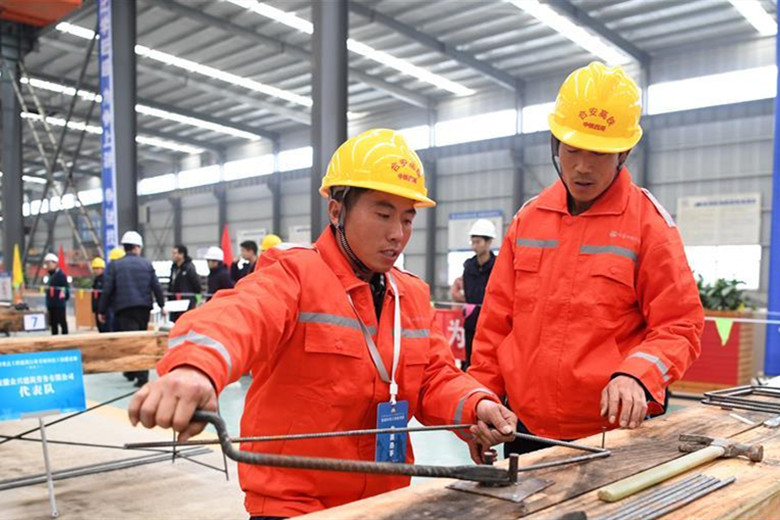safetyhat: (191, 94, 450, 487), (470, 41, 695, 423)
